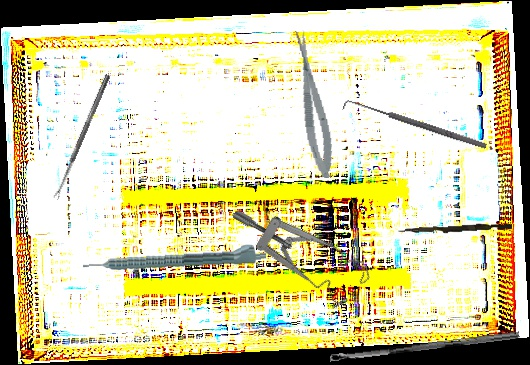Handpiece: (82, 241, 267, 273)
Hook Surgical: (342, 95, 488, 156)
Micro Scissor: (290, 28, 338, 180)
Pusher: (397, 221, 513, 237)
Speculum: (231, 168, 377, 327)
Surgical Spoon: (52, 73, 111, 201), (329, 330, 520, 362)
